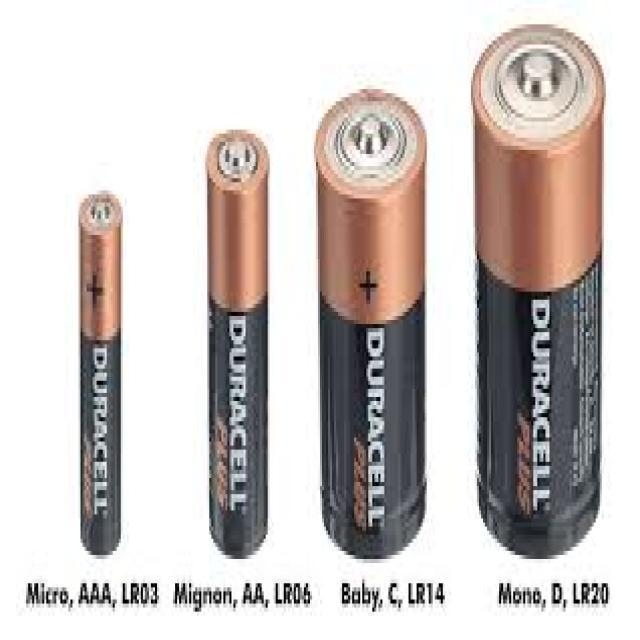Battery: (461, 15, 621, 569), (307, 76, 443, 576), (49, 178, 153, 572), (186, 118, 277, 565)
